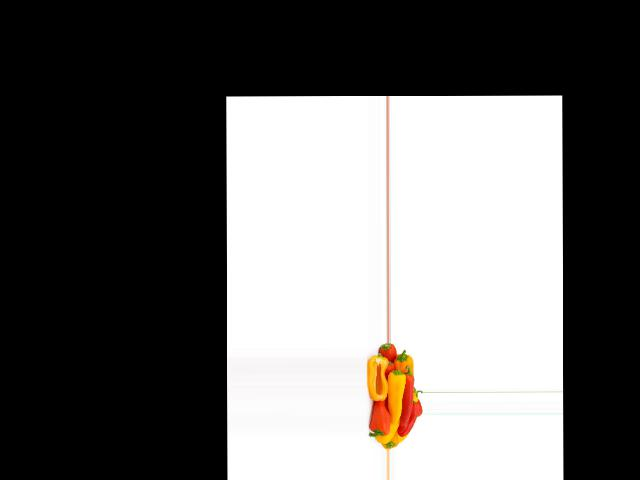bell_pepper: (379, 342, 400, 373)
